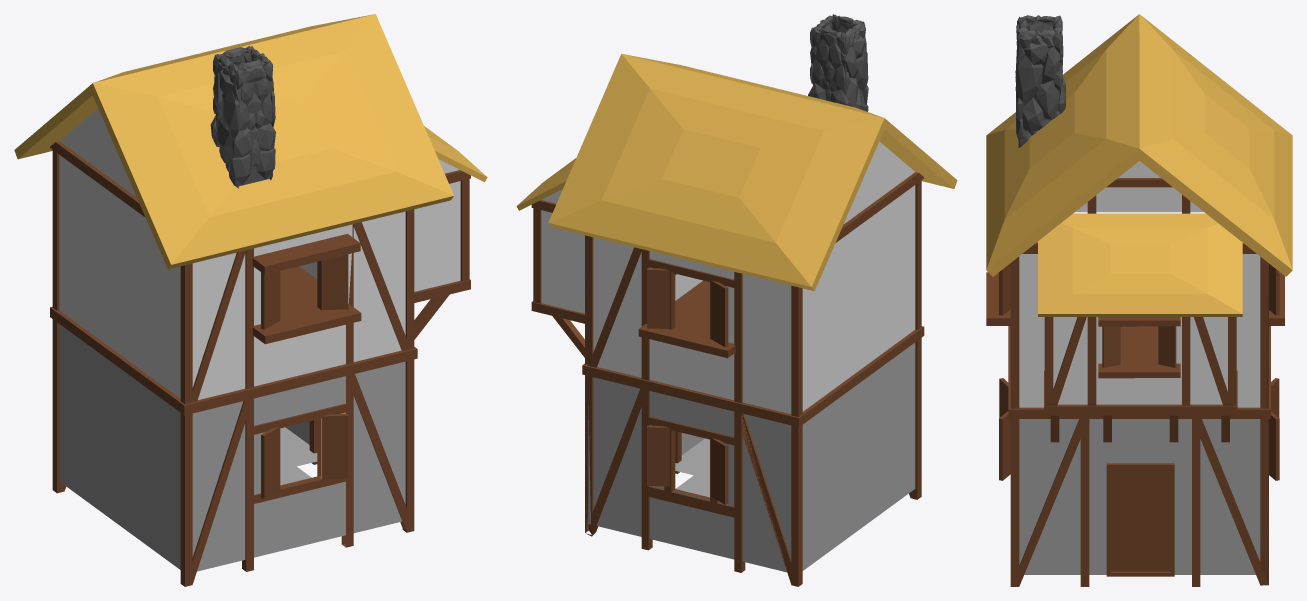
Rendered from building_small.fbx.
3 renders of one model, left to right at view 1: azimuth 30°, elevation 25°; view 2: azimuth 150°, elevation 25°; view 3: azimuth 270°, elevation 25°, orthographic. The views are drawn at different scales.
Visible parts, largest first — view 1: Plane.004, Cube.031, Cube.049, Cube.056, Cube.050; view 2: Plane.004, Cube.049, Cube.031, Cube.056, Cube.050; view 3: Plane.004, Cube.056, Cube.031, Cube.049, Cube.050.
Part boxes in pixels (x1,y1,x2,y2): Plane.004: [14, 14, 487, 269]; Cube.031: [59, 324, 405, 571]; Cube.049: [59, 108, 460, 399]; Cube.056: [50, 141, 470, 586]; Cube.050: [210, 46, 275, 188]; Plane.004: [516, 54, 957, 291]; Cube.049: [541, 141, 915, 413]; Cube.031: [588, 342, 915, 572]; Cube.056: [531, 172, 924, 586]; Cube.050: [808, 14, 868, 111]; Plane.004: [986, 14, 1292, 316]; Cube.056: [986, 178, 1284, 586]; Cube.031: [1019, 419, 1260, 574]; Cube.049: [1019, 161, 1260, 407]; Cube.050: [1015, 15, 1065, 147].
Size of the model in its own units: 1139 by 1594 by 902.
